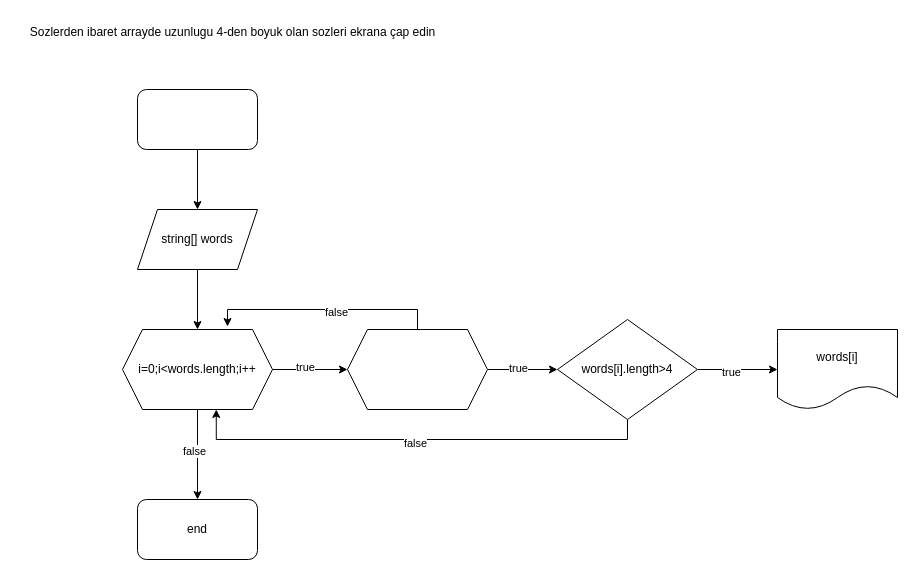
This 915x577 diagram has some shape labels left out. The shapes that lost their labels are listed below. From the top down, each one's centre as x and y in pixels, then its label:
the point at 197,119: start
the point at 417,369: j=0;j<words[i].length;j++
